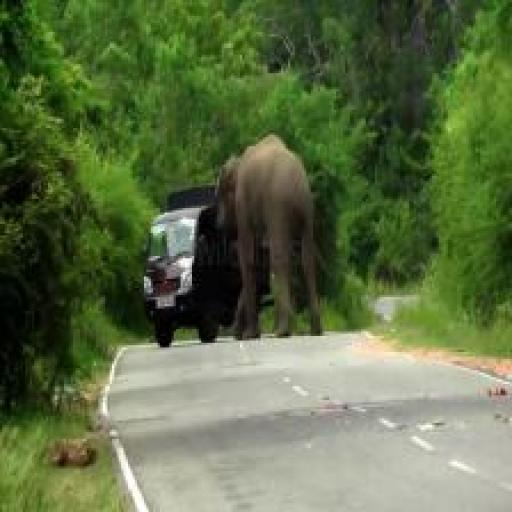Elephant: (201, 128, 370, 366)
